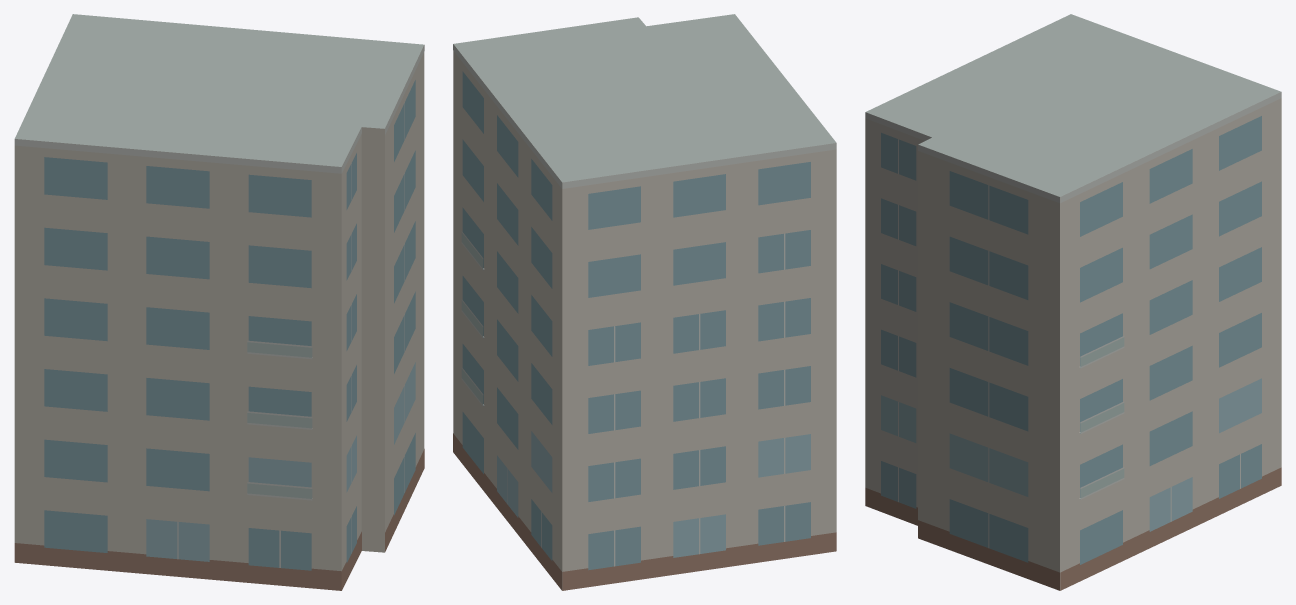
Rendered from survey-upis-32893250.glb.
3 renders of one model, left to right at view 1: azimuth 30°, elevation 25°; view 2: azimuth 150°, elevation 25°; view 3: azimuth 270°, elevation 25°, orthographic. The views are drawn at different scales.
Visible parts, largest first — view 1: survey-upis-32893250.tmp; view 2: survey-upis-32893250.tmp; view 3: survey-upis-32893250.tmp.
Part boxes in pixels (x1,y1,x2,y2): survey-upis-32893250.tmp: [14, 14, 424, 590]; survey-upis-32893250.tmp: [453, 14, 836, 590]; survey-upis-32893250.tmp: [865, 14, 1281, 590].
Size of the model in its own units: 15.37 by 15.4 by 14.76.
